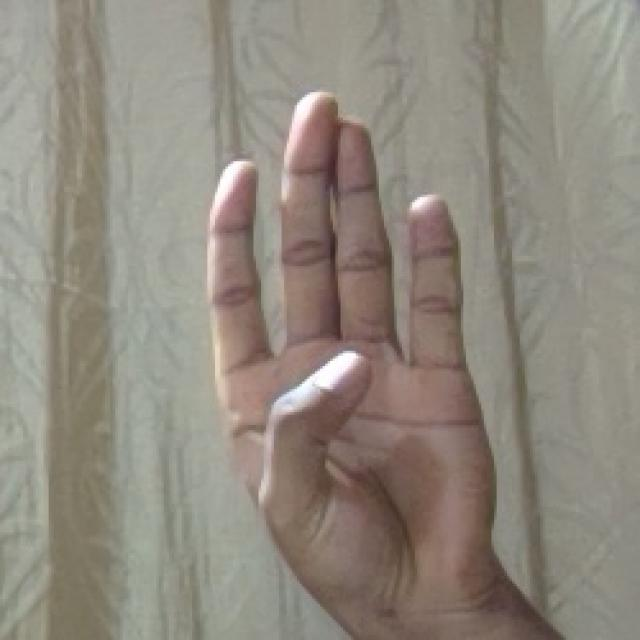Numeric-4: (206, 88, 499, 610)
